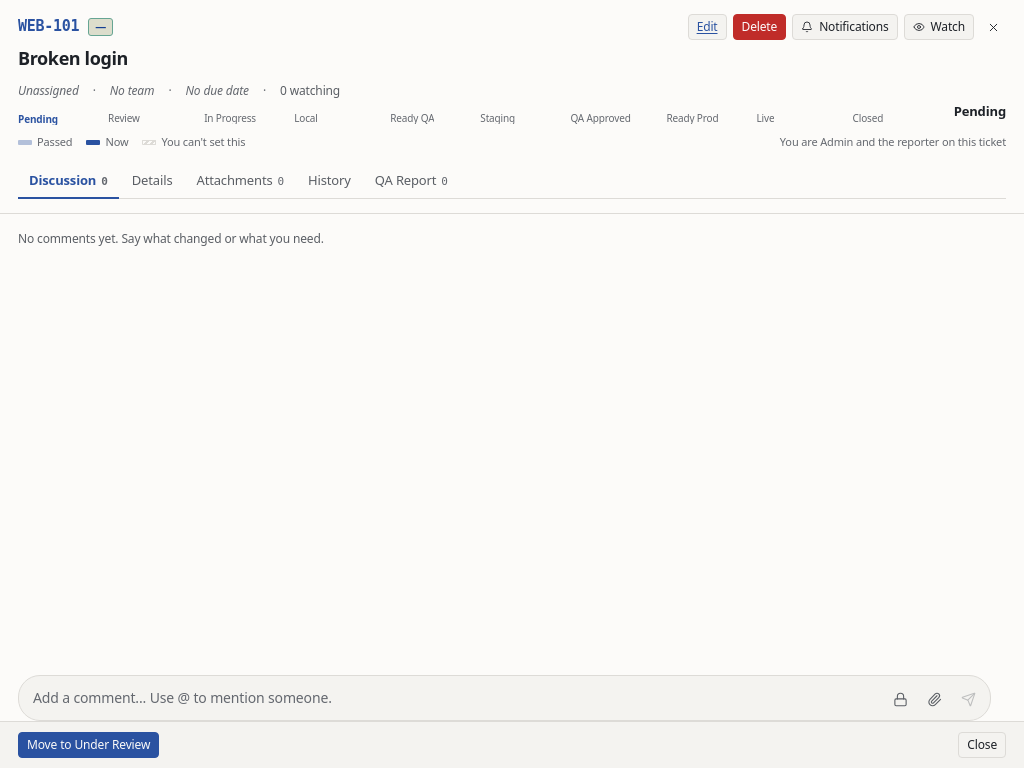
Test: TicketDetailDrawer › shows validation dialog and inline date errors when estimates are missing
Check: the text "WEB-101" is shown, box [18,16,79,38]
Click the tab "Details" at (152, 182), box [121,164,184,199]
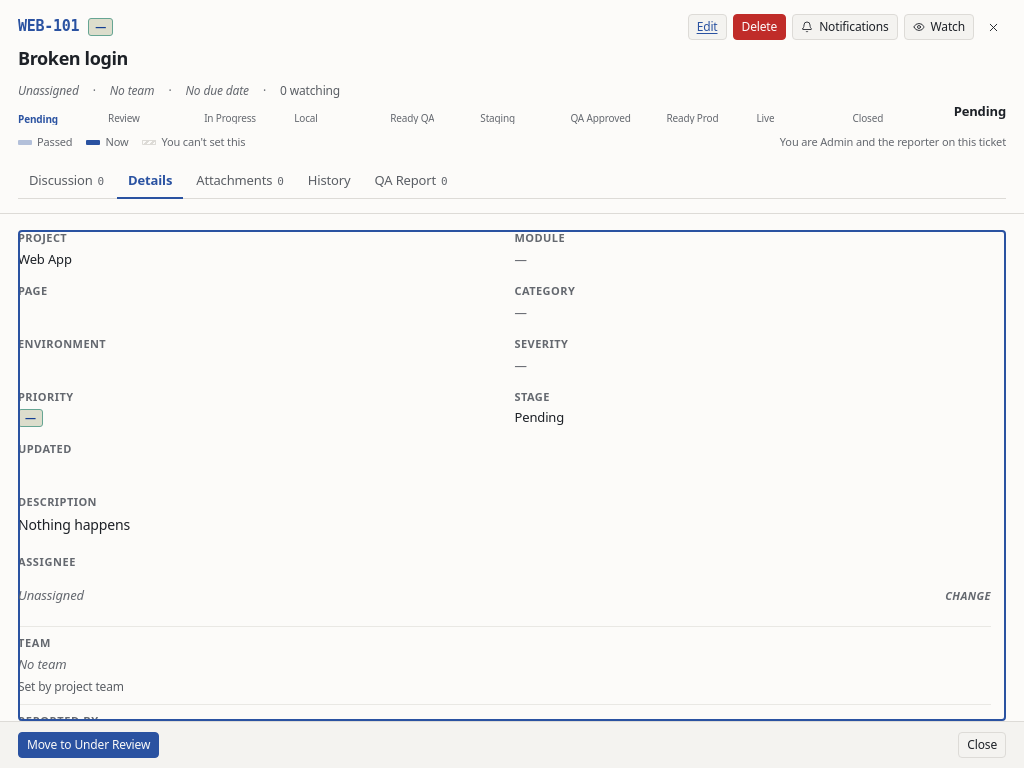
Click the button "Move to Under Review" at (89, 745), box [18,732,159,758]
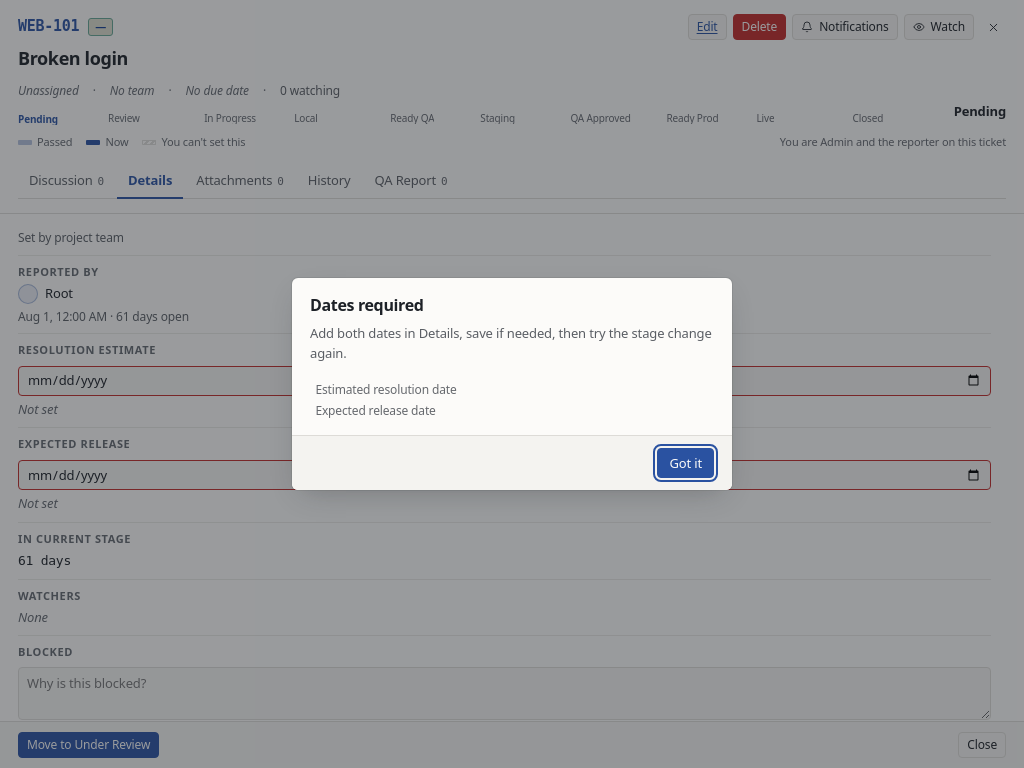
Check: the dialog is shown, box [292,278,732,490]
Check: the heading "Dates required" is shown, box [310,294,424,316]
Check: the list item "Estimated resolution date" is shown, box [315,381,456,398]
